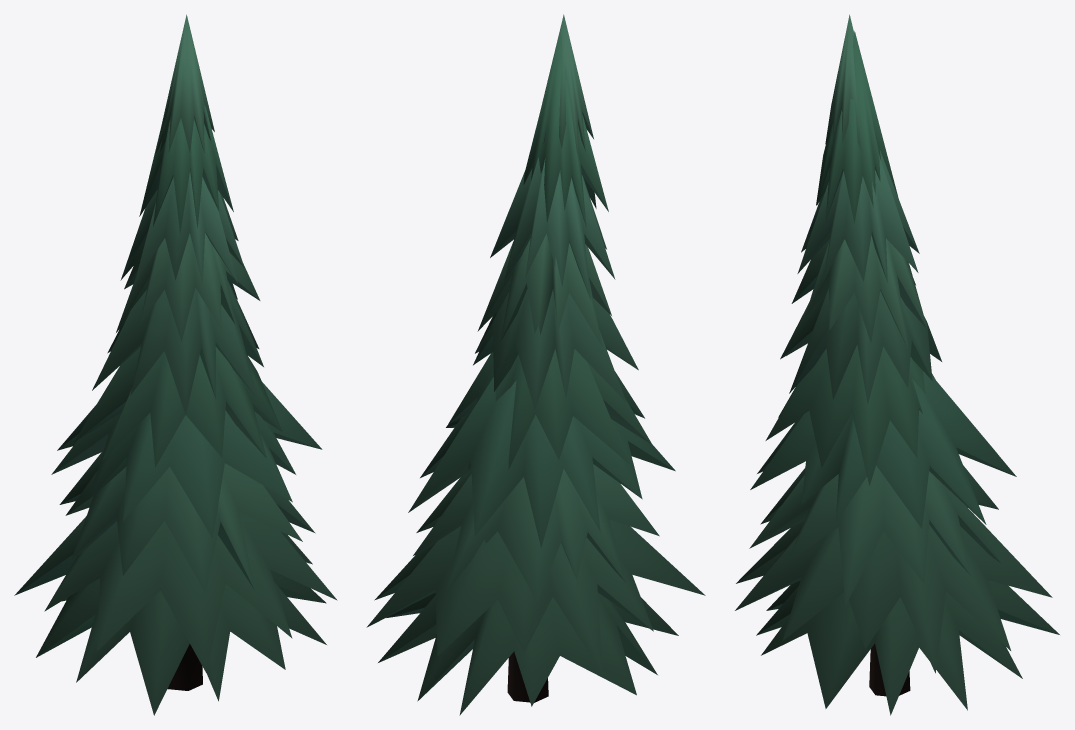
File: PineWide.glb
3 views of the same model, side by side, from view 1: azimuth 30°, elevation 25°; view 2: azimuth 150°, elevation 25°; view 3: azimuth 270°, elevation 25° (orthographic). The views are drawn at different scales.
Visible parts, largest first — view 1: PineWide; view 2: PineWide; view 3: PineWide.
Boxes of the visible parts, x1,y1,x2,y2 form: PineWide: (14, 14, 337, 715); PineWide: (366, 14, 705, 715); PineWide: (735, 14, 1059, 715).
Bounding box in the file's own units: 12.77 × 30 × 13.29.
